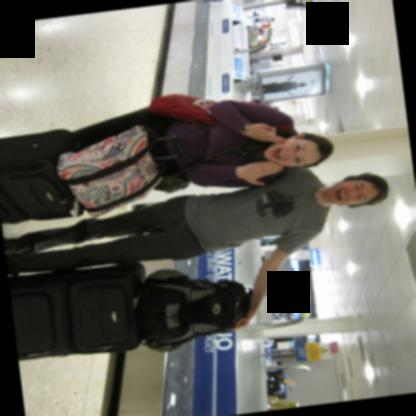backpack: (136, 265, 251, 353)
handbag: (55, 124, 164, 217), (152, 140, 263, 192), (148, 93, 219, 124)
suitcase: (7, 262, 143, 359), (0, 129, 82, 225)
